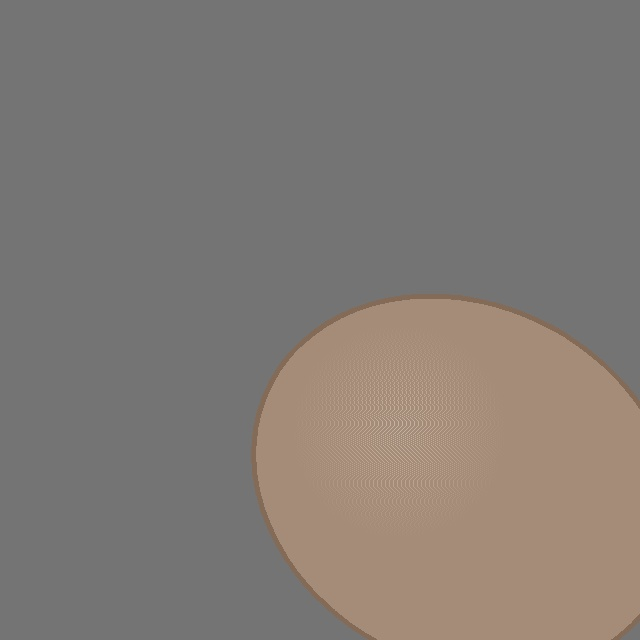lens: (255, 296, 640, 640)
